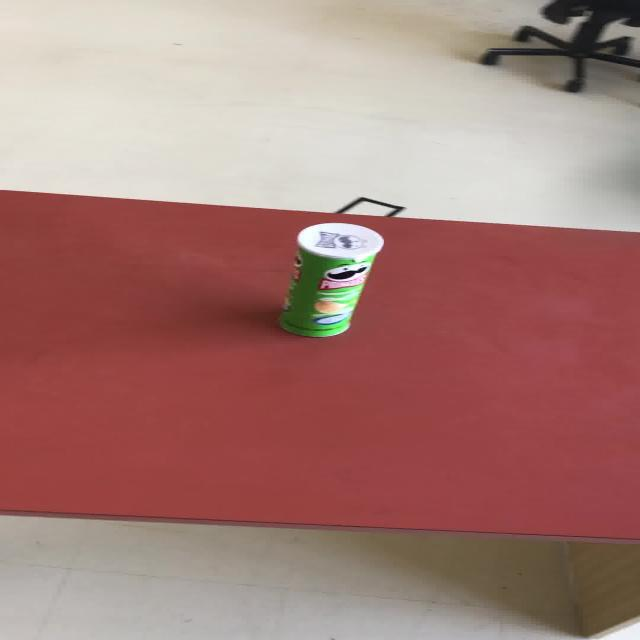pringles: (276, 221, 384, 338)
